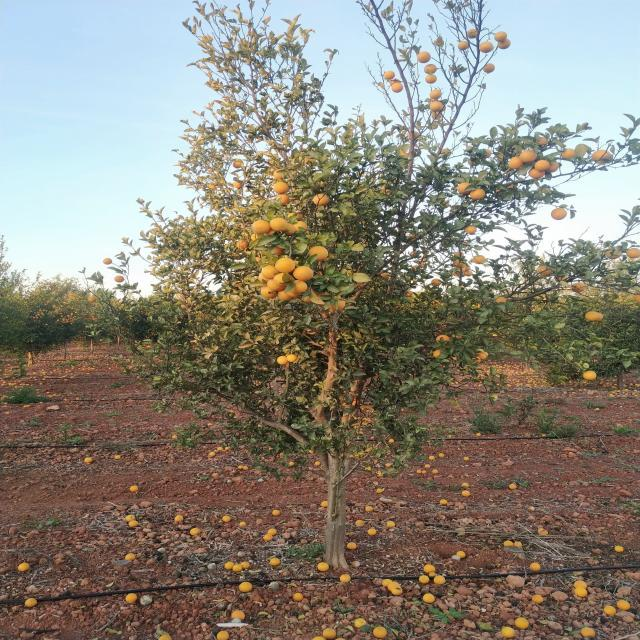Jeruk Sudah Matang: (276, 256, 296, 273), (308, 244, 329, 260), (294, 265, 313, 280), (253, 219, 270, 234), (497, 627, 516, 640), (270, 218, 287, 232), (507, 156, 521, 172), (372, 626, 388, 640), (291, 280, 307, 294), (262, 265, 278, 279), (586, 309, 604, 321), (278, 354, 296, 366), (260, 286, 278, 298), (594, 150, 610, 162), (552, 206, 568, 218), (456, 181, 470, 194), (314, 193, 328, 206), (274, 273, 288, 286), (520, 150, 535, 162), (527, 167, 542, 179), (331, 298, 346, 310), (267, 280, 285, 290), (576, 281, 592, 292), (472, 188, 486, 200), (273, 183, 288, 194), (581, 628, 596, 639), (584, 371, 598, 382), (479, 42, 493, 53), (18, 562, 30, 574), (258, 272, 270, 284), (538, 265, 552, 275), (564, 150, 578, 160), (238, 581, 252, 591), (606, 248, 620, 258), (294, 222, 308, 232), (284, 223, 296, 234), (437, 334, 450, 344), (278, 290, 291, 300), (126, 593, 139, 603), (424, 64, 437, 74), (418, 52, 431, 62), (498, 38, 511, 48), (537, 160, 549, 170), (538, 138, 550, 148), (474, 252, 486, 262), (273, 169, 285, 179), (426, 74, 438, 84), (384, 70, 396, 80), (392, 82, 404, 92), (467, 28, 478, 38), (548, 162, 558, 173), (432, 350, 444, 359), (466, 224, 478, 233), (430, 101, 442, 110), (277, 195, 289, 204), (484, 62, 494, 72), (458, 40, 468, 50), (496, 32, 506, 42), (495, 294, 506, 303), (272, 248, 286, 255), (430, 90, 442, 98), (285, 290, 298, 297), (476, 352, 486, 361), (237, 240, 247, 249), (408, 131, 419, 139), (441, 148, 452, 156), (628, 250, 638, 258), (470, 300, 480, 308), (431, 278, 441, 286), (380, 272, 390, 280), (306, 157, 317, 164), (250, 233, 260, 240), (399, 150, 407, 158), (254, 257, 262, 265), (484, 149, 491, 158), (115, 275, 124, 282), (454, 260, 464, 266), (390, 79, 400, 85), (454, 252, 464, 258), (234, 181, 242, 188), (103, 258, 112, 264), (233, 162, 242, 168), (406, 290, 414, 296), (209, 184, 217, 190), (468, 160, 476, 166), (453, 270, 461, 276), (87, 297, 96, 302), (465, 271, 473, 276), (464, 265, 470, 271), (410, 251, 417, 256), (460, 273, 466, 277), (412, 266, 418, 270), (422, 258, 428, 262), (461, 268, 466, 272), (420, 263, 424, 268)
